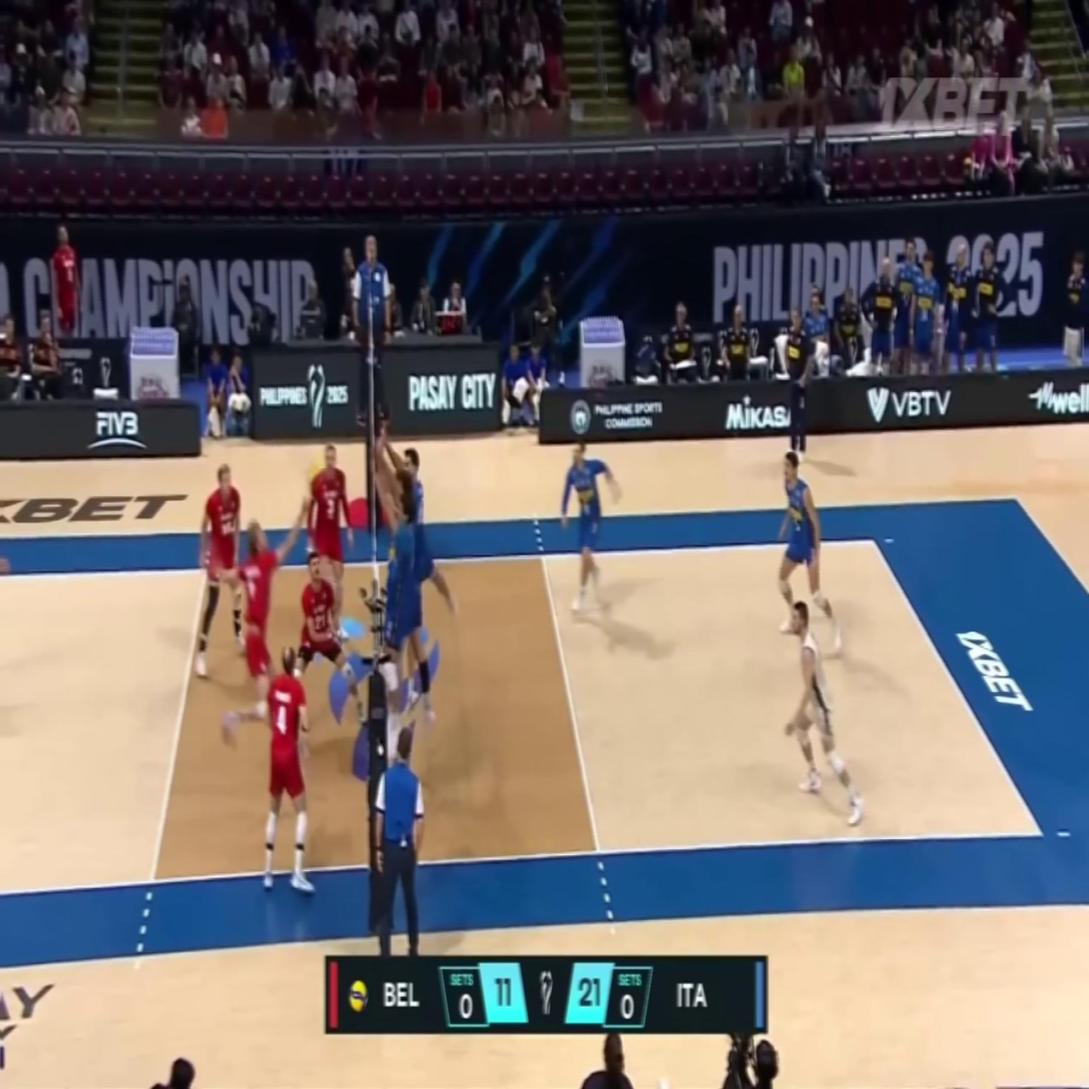ball: (306, 459, 321, 484)
